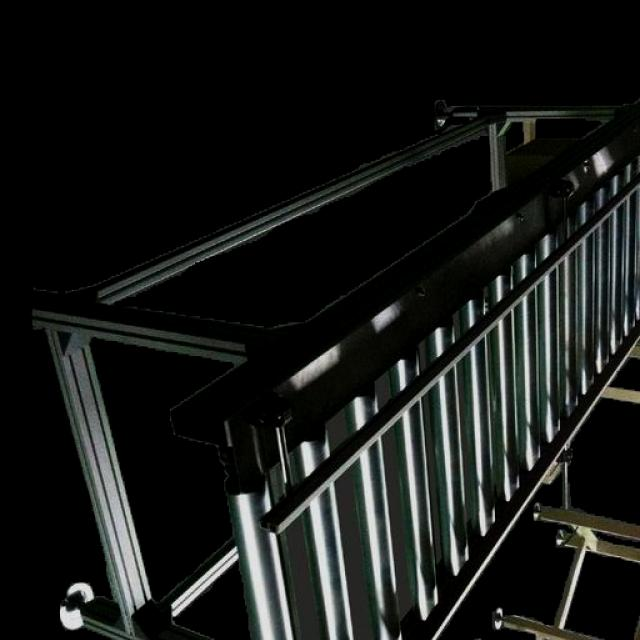conveyor: (235, 102, 640, 640)
